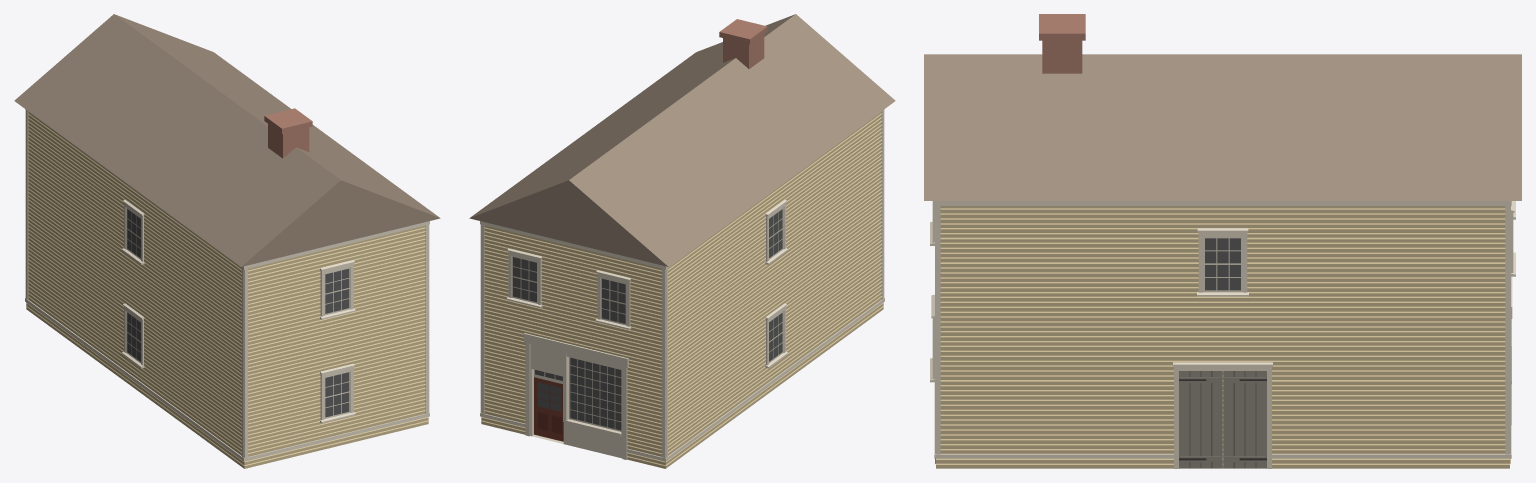
Rendered from recon_1835_core_c3_018__inferred_1835.glb.
3 renders of one model, left to right at view 1: azimuth 30°, elevation 25°; view 2: azimuth 150°, elevation 25°; view 3: azimuth 270°, elevation 25°, orthographic. The views are drawn at different scales.
Parts seen in each view (by area): view 1: recon_1835_core_c3_018__inferred_1835; view 2: recon_1835_core_c3_018__inferred_1835; view 3: recon_1835_core_c3_018__inferred_1835.
Boxes of the visible parts, x1,y1,x2,y2 form: recon_1835_core_c3_018__inferred_1835: (14, 14, 440, 468); recon_1835_core_c3_018__inferred_1835: (469, 14, 895, 468); recon_1835_core_c3_018__inferred_1835: (924, 14, 1521, 468).
Size of the model in its own units: 6.39 by 8.96 by 12.59.
